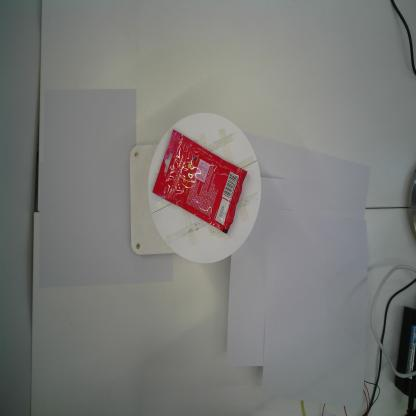Candy: (152, 126, 249, 236)
